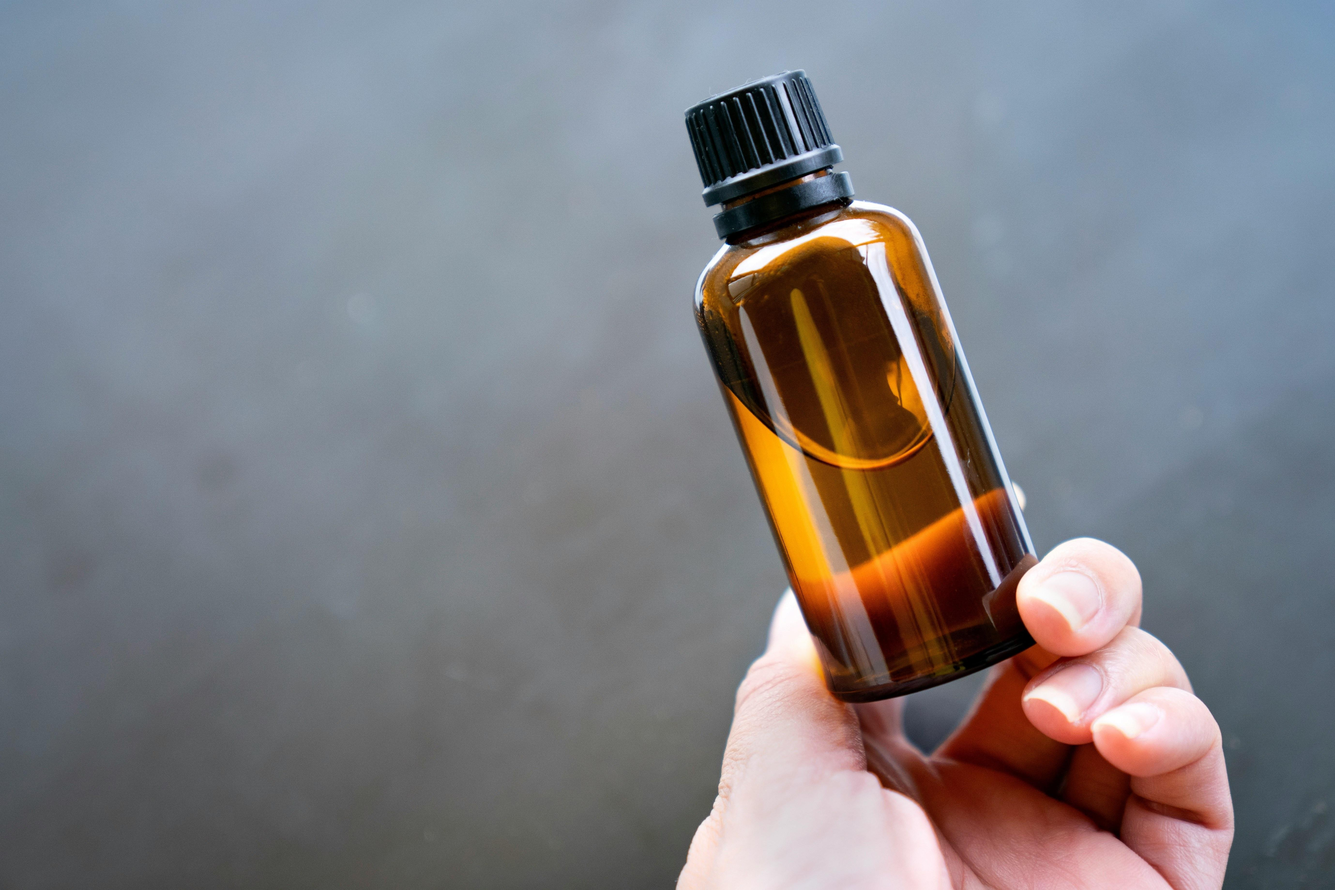Bottle-Detection: (603, 41, 1133, 721)
